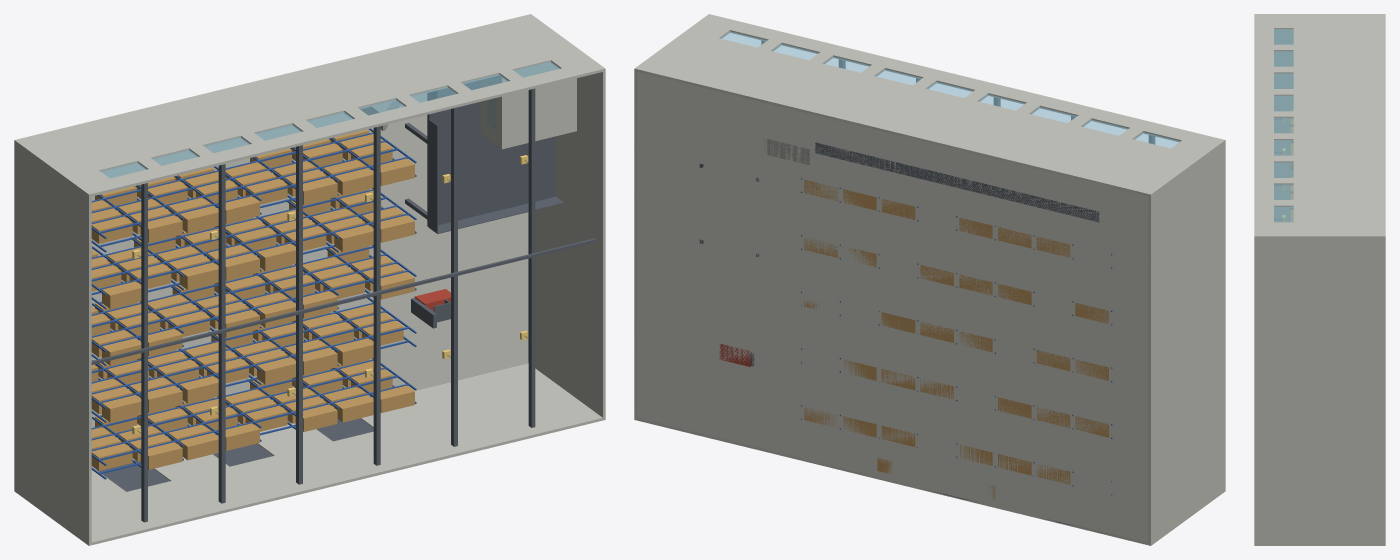
The model's file is warehouse.obj.
3 renders of one model, left to right at view 1: azimuth 30°, elevation 25°; view 2: azimuth 150°, elevation 25°; view 3: azimuth 270°, elevation 25°, orthographic. The views are drawn at different scales.
Visible parts, largest first — view 1: wall-west-end, ground-visual-only, wall-east-end, wall-south-end, mezzanine-deck, mezzanine-office, wall-south-pier-2, wall-south-pier-1, wall-south-pier-0, wall-north-pier-0, truss-1, truss-3 (+57 smaller); view 2: ground-visual-only, wall-west-end, conveyor, wall-north-pier-0, wall-north-end, wall-north-sill-8, wall-north-sill-7, wall-north-sill-6, wall-north-sill-4, wall-north-sill-5, wall-north-sill-1, wall-north-sill-3 (+11 smaller); view 3: wall-east-end, wall-west-end, wall-north-end, wall-north-pier-0, wall-north-sill-3, wall-north-sill-4, wall-north-sill-8, wall-north-sill-0, wall-north-sill-1, wall-north-sill-2, wall-north-sill-5, wall-north-sill-6 (+28 smaller).
Part boxes in pixels (x1=…): wall-west-end: x1=14, y1=143, x2=91, y2=543; ground-visual-only: x1=91, y1=93, x2=528, y2=469; wall-east-end: x1=528, y1=71, x2=605, y2=417; wall-south-end: x1=360, y1=363, x2=605, y2=464; mezzanine-deck: x1=427, y1=80, x2=555, y2=227; mezzanine-office: x1=481, y1=63, x2=576, y2=149; wall-south-pier-2: x1=257, y1=423, x2=376, y2=489; wall-south-pier-1: x1=154, y1=454, x2=272, y2=514; wall-south-pier-0: x1=14, y1=469, x2=169, y2=545; wall-north-pier-0: x1=14, y1=132, x2=121, y2=197; truss-1: x1=218, y1=164, x2=225, y2=503; truss-3: x1=373, y1=126, x2=380, y2=465; ground-visual-only: x1=634, y1=69, x2=1150, y2=545; wall-west-end: x1=1148, y1=143, x2=1225, y2=542; conveyor: x1=815, y1=142, x2=1099, y2=222; wall-north-pier-0: x1=1118, y1=132, x2=1225, y2=197; wall-north-end: x1=634, y1=14, x2=740, y2=78; wall-north-sill-8: x1=666, y1=38, x2=756, y2=88; wall-north-sill-7: x1=718, y1=51, x2=808, y2=100; wall-north-sill-6: x1=770, y1=63, x2=860, y2=113; wall-north-sill-4: x1=873, y1=88, x2=963, y2=138; wall-north-sill-5: x1=821, y1=76, x2=912, y2=125; wall-north-sill-1: x1=1028, y1=126, x2=1118, y2=176; wall-north-sill-3: x1=925, y1=101, x2=1015, y2=149; wall-east-end: x1=1254, y1=238, x2=1385, y2=543; wall-west-end: x1=1274, y1=30, x2=1293, y2=221; wall-north-end: x1=1254, y1=222, x2=1385, y2=238; wall-north-pier-0: x1=1254, y1=14, x2=1385, y2=29; wall-north-sill-3: x1=1293, y1=94, x2=1385, y2=111; wall-north-sill-4: x1=1293, y1=116, x2=1385, y2=133; wall-north-sill-8: x1=1293, y1=205, x2=1385, y2=222; wall-north-sill-0: x1=1293, y1=28, x2=1385, y2=44; wall-north-sill-1: x1=1293, y1=50, x2=1385, y2=66; wall-north-sill-2: x1=1293, y1=72, x2=1385, y2=88; wall-north-sill-5: x1=1293, y1=139, x2=1385, y2=155; wall-north-sill-6: x1=1293, y1=161, x2=1385, y2=177.
Size of the model in its own units: 40 by 26 by 10.
